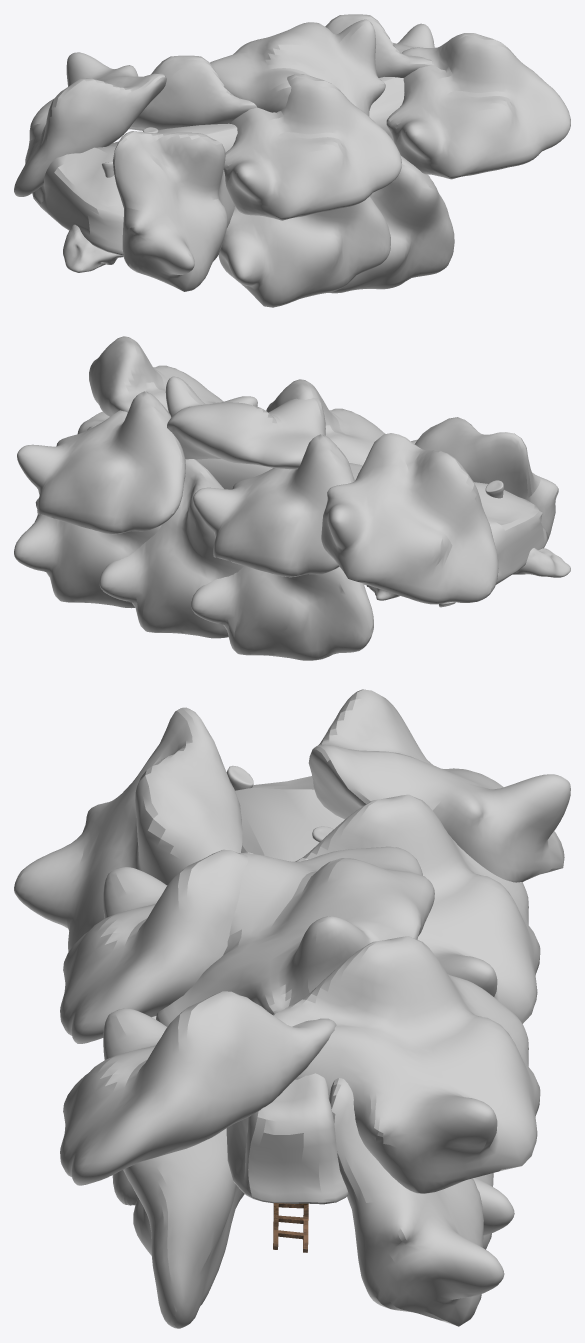
The model's file is peshtera2.fbx.
3 views of the same model, one above another, from view 1: azimuth 30°, elevation 25°; view 2: azimuth 150°, elevation 25°; view 3: azimuth 270°, elevation 25° (orthographic). The views are drawn at different scales.
Visible parts, largest first — view 1: Retopo_Sphere.064, Retopo_Rock_2.001; view 2: Retopo_Sphere.064, Retopo_Rock_2.001; view 3: Retopo_Sphere.064, Cube.002.
Boxes of the visible parts, x1,y1,x2,y2 form: Retopo_Sphere.064: (14,14,570,307); Retopo_Rock_2.001: (63,224,123,272); Retopo_Sphere.064: (14,336,558,660); Retopo_Rock_2.001: (366,548,570,600); Retopo_Sphere.064: (14,689,570,1328); Cube.002: (273,1203,308,1252).
Bounding box in the file's own units: 1622 × 752 × 949.
